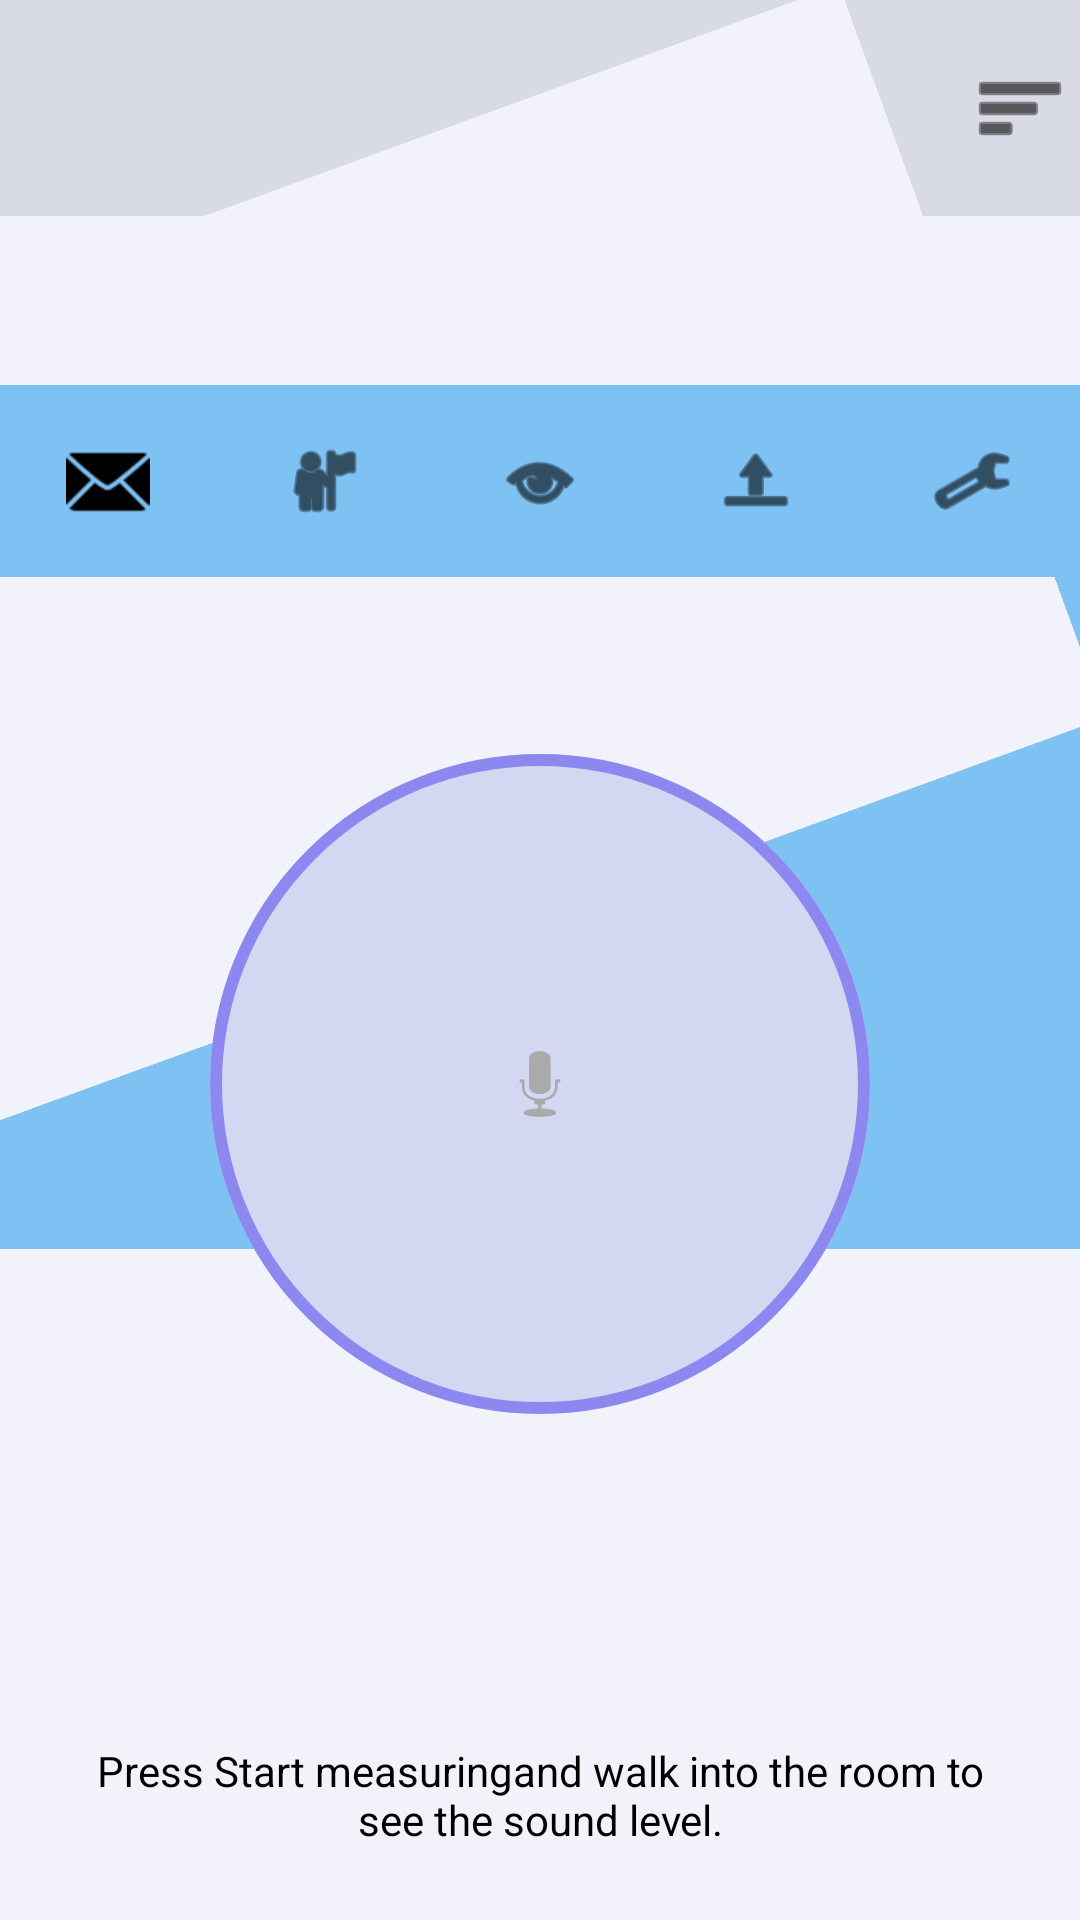

Where icons sit on this 1080w x 1920h app screen, as BBox(x1, y1, x2, y2):
Menu: BBox(979, 82, 1061, 135)
Upload: BBox(724, 453, 788, 507)
